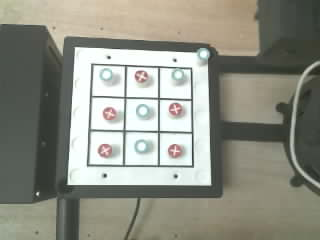blue circle: (136, 104, 149, 118), (135, 140, 148, 152), (197, 48, 210, 60), (100, 68, 112, 80), (172, 69, 183, 80)
board: (68, 47, 212, 185)
cells: (159, 133, 192, 165), (125, 132, 157, 165), (89, 132, 122, 164), (159, 100, 192, 131), (92, 65, 124, 96), (91, 98, 123, 129), (126, 99, 157, 130), (160, 68, 191, 98), (127, 67, 158, 97)
grid: (87, 64, 193, 167)
red cross: (168, 144, 181, 157), (98, 144, 111, 157), (103, 107, 116, 119), (135, 70, 148, 82), (169, 103, 182, 115)
